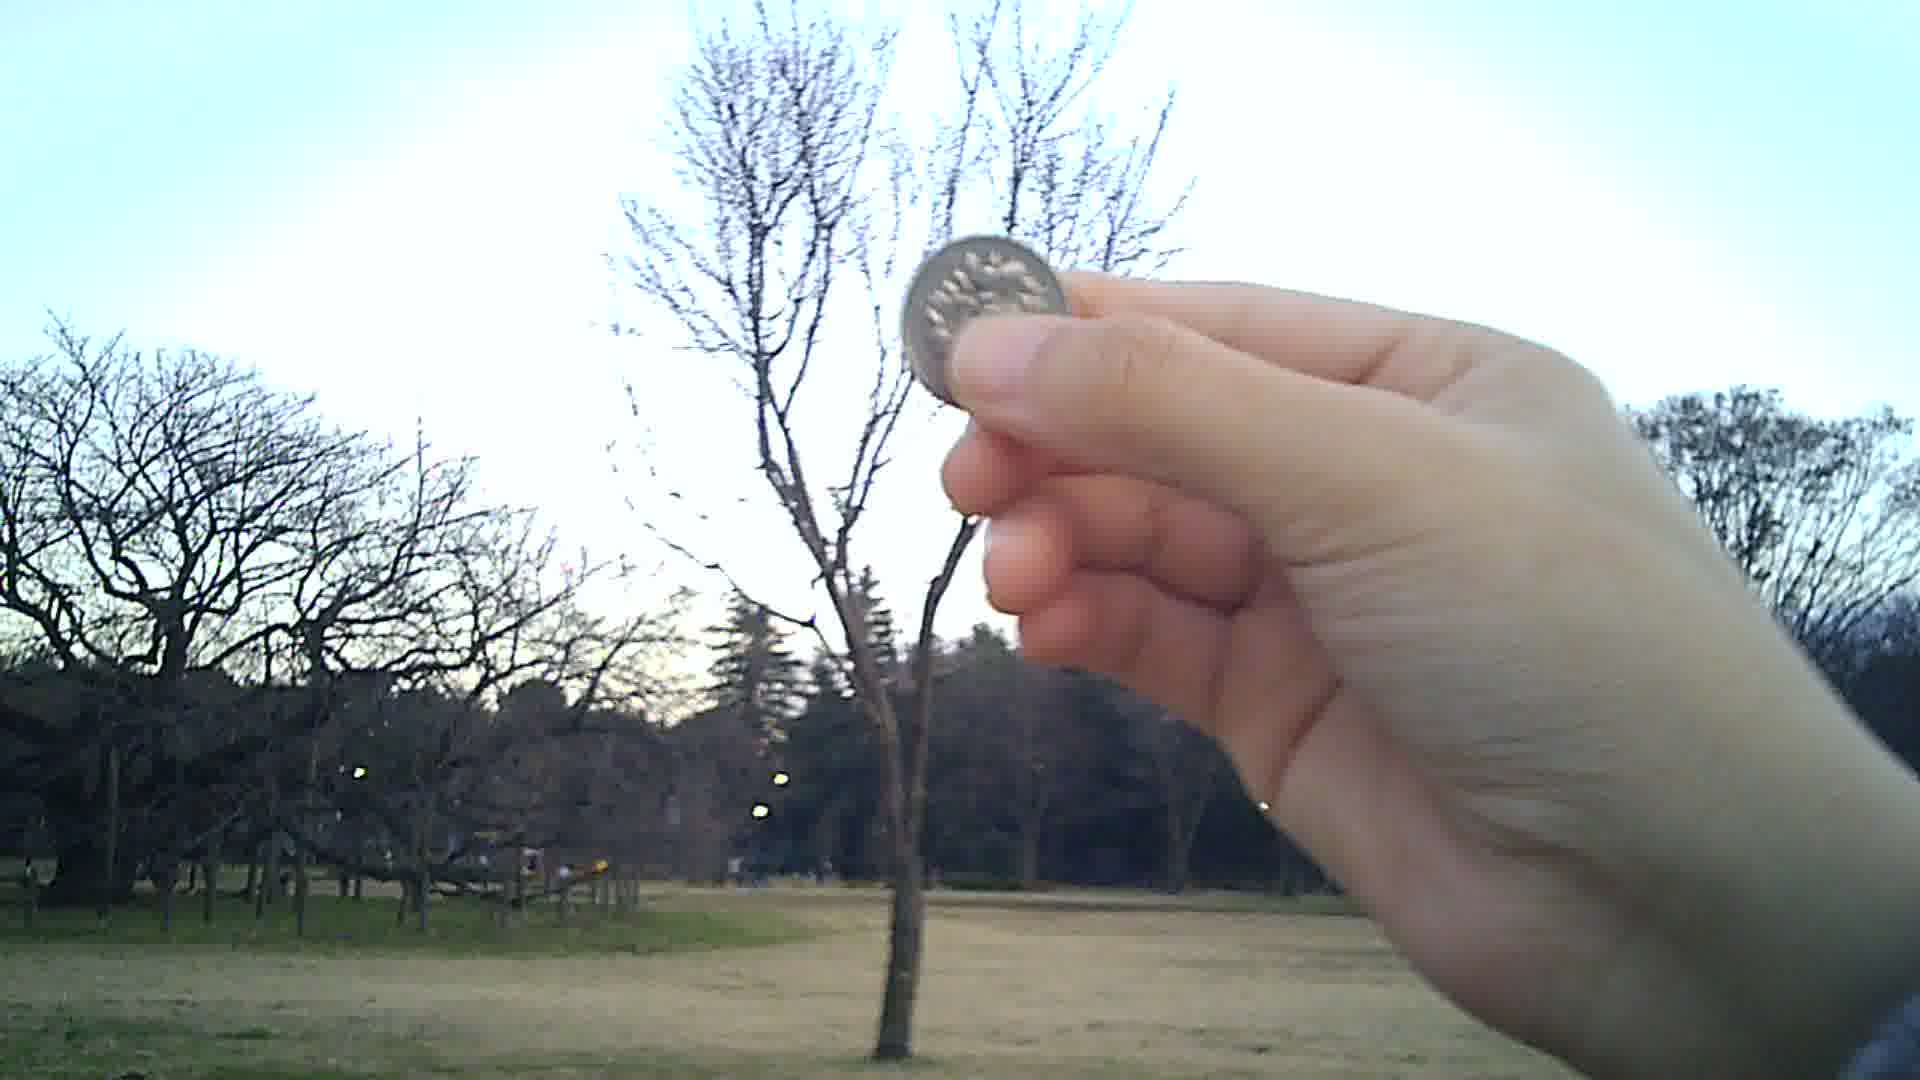100 Yen: (902, 229, 1065, 404)
